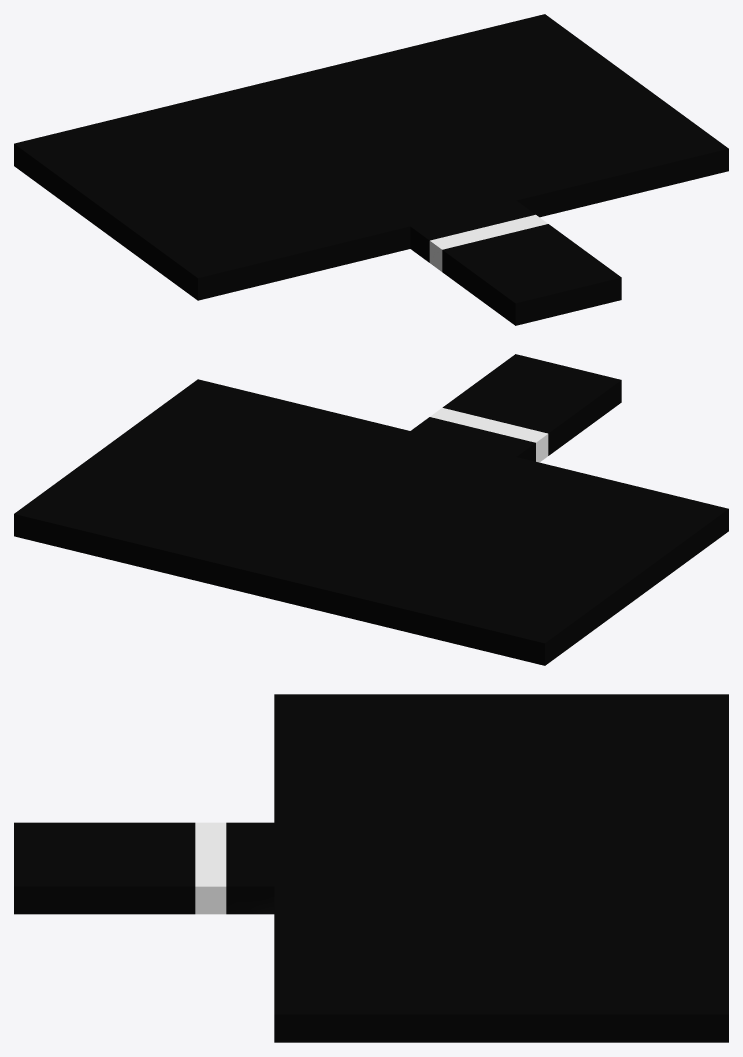
The model's file is clearStage.obj.
3 views of the same model, one above another, from view 1: azimuth 30°, elevation 25°; view 2: azimuth 150°, elevation 25°; view 3: azimuth 270°, elevation 25° (orthographic). The views are drawn at different scales.
Parts seen in each view (by area): view 1: 0_body.001; view 2: 0_body.001; view 3: 0_body.001.
Part boxes in pixels (x1,y1,x2,y2): 0_body.001: (14,14,728,325); 0_body.001: (14,354,728,665); 0_body.001: (14,694,728,1042).
Size of the model in its own units: 20 by 0.8084 by 18.86.
Materials: 1 (1 with a texture image).
